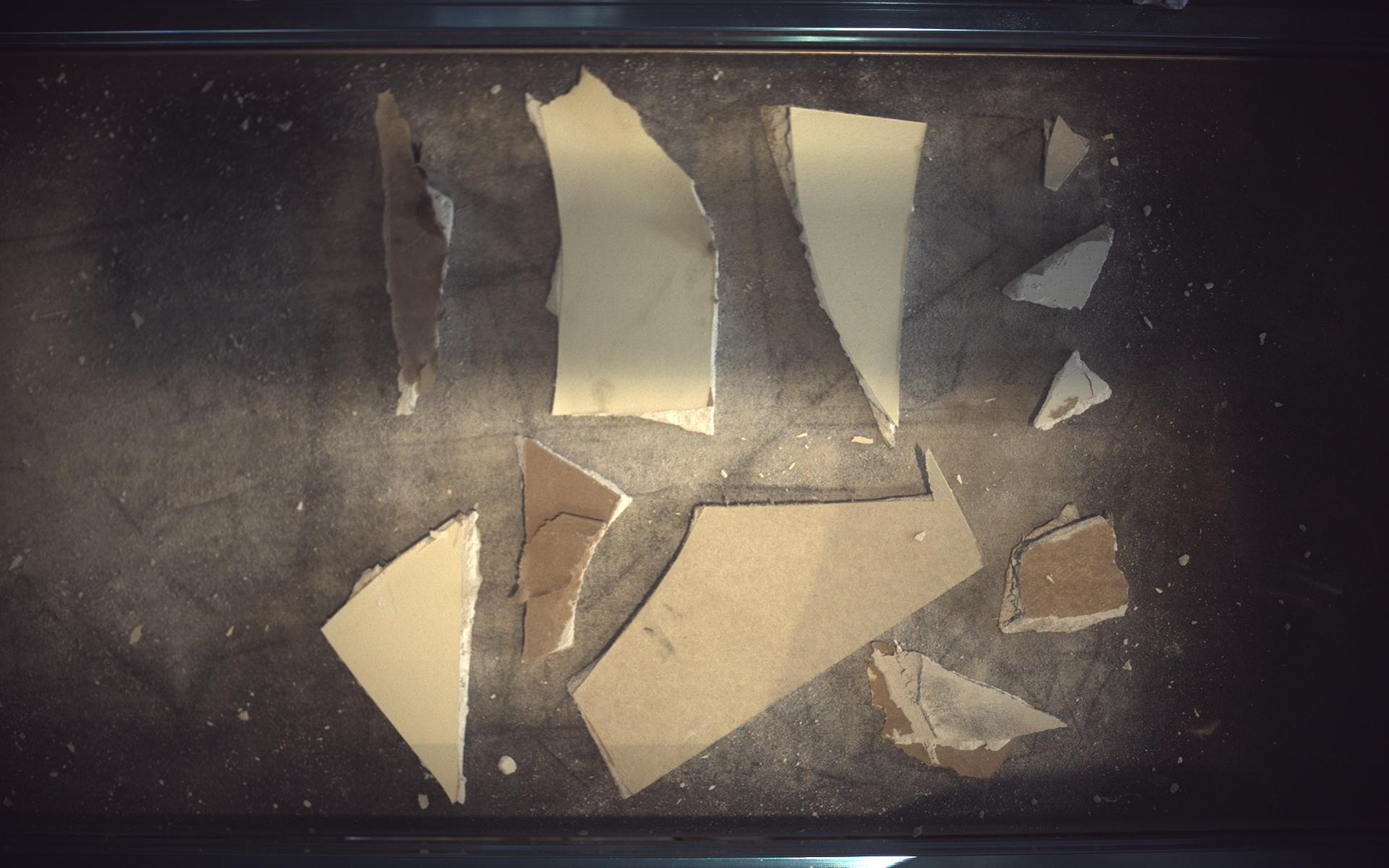gypsum_board: (571, 449, 985, 799), (527, 67, 718, 434), (763, 104, 928, 446), (322, 511, 481, 804), (869, 643, 1068, 780), (514, 436, 632, 665), (375, 90, 454, 415), (1001, 504, 1131, 634), (1005, 224, 1116, 309), (1036, 349, 1114, 430), (1046, 115, 1092, 190)
